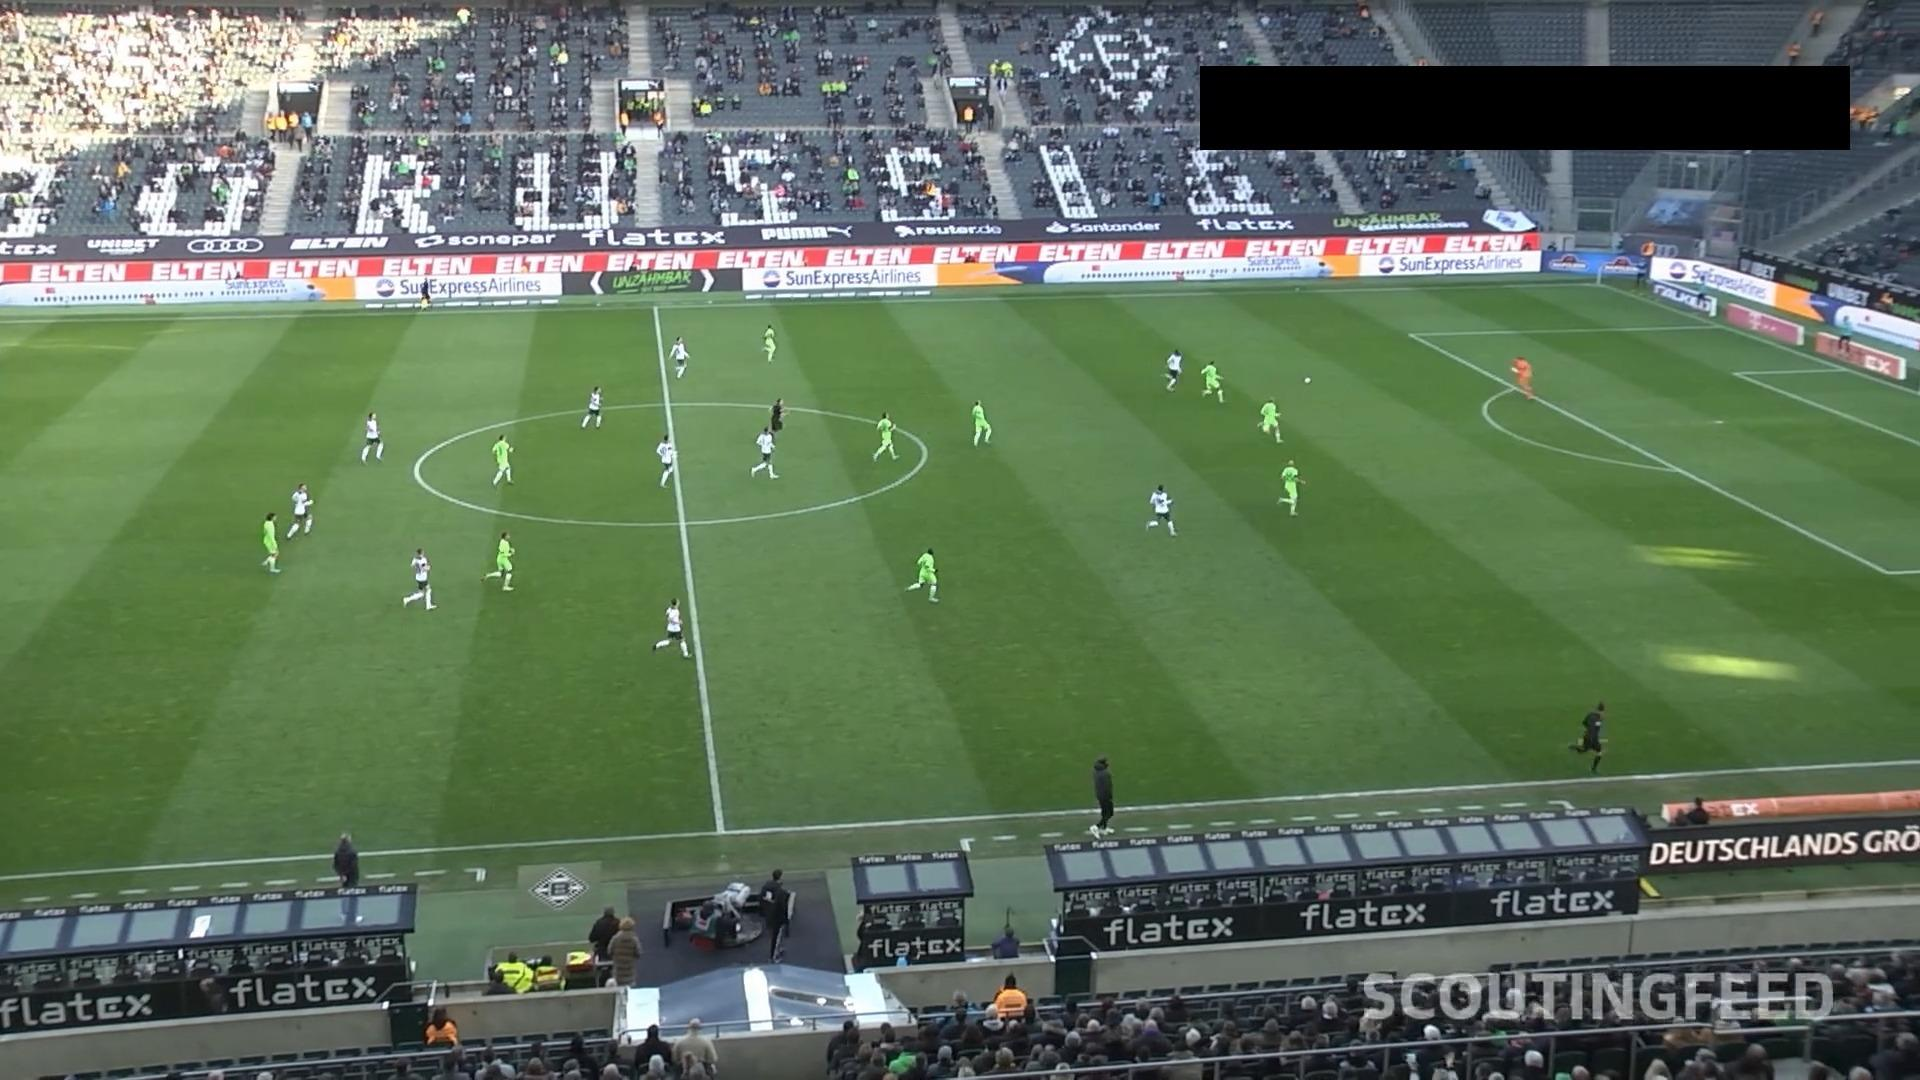ball: (1302, 376, 1311, 383)
coach: (1089, 755, 1115, 836), (332, 832, 359, 888)
player: (651, 597, 689, 658), (402, 546, 436, 610), (906, 547, 939, 602), (1145, 483, 1177, 536), (285, 482, 314, 539), (749, 425, 779, 478), (1277, 459, 1304, 516), (492, 530, 515, 591), (871, 411, 898, 461), (359, 410, 384, 463), (260, 511, 281, 573), (490, 433, 514, 486), (1257, 396, 1283, 442), (655, 433, 676, 487), (969, 399, 992, 446), (1199, 360, 1224, 403), (1509, 354, 1533, 398), (580, 385, 603, 428), (668, 335, 689, 378), (1163, 348, 1182, 391), (769, 396, 786, 435), (761, 323, 776, 362), (417, 277, 431, 309)
referee: (758, 868, 791, 963), (587, 904, 620, 985), (1571, 699, 1607, 773)
